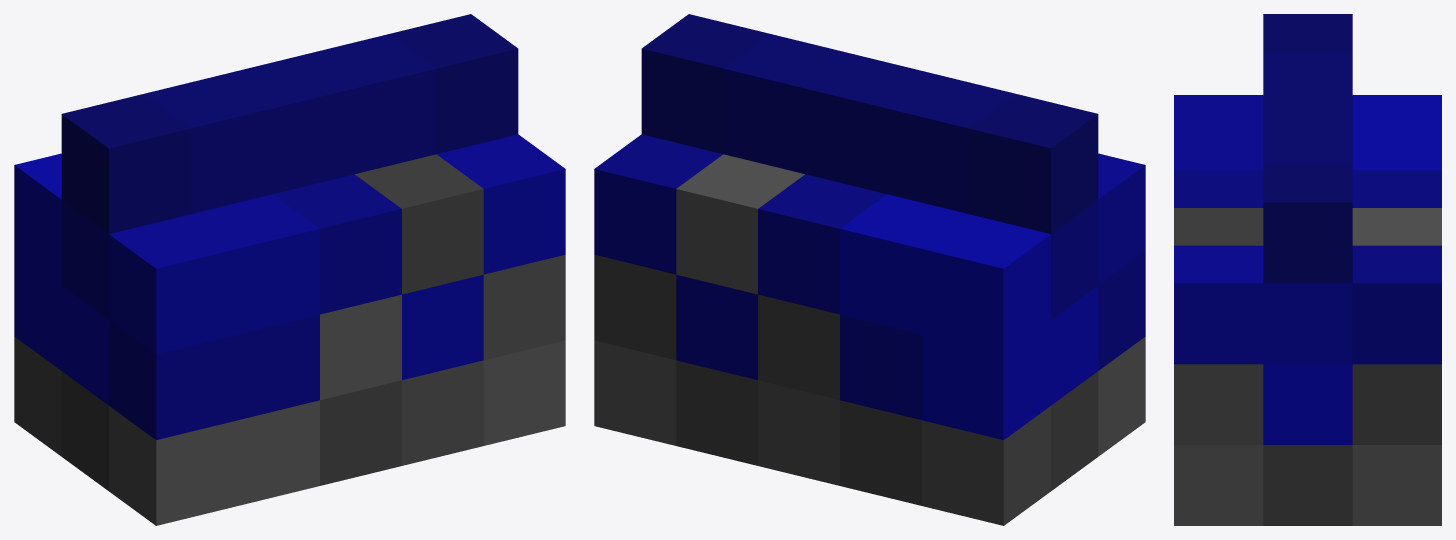
Rendered from Pez Pequeñito-1.obj.
3 views of the same model, side by side, from view 1: azimuth 30°, elevation 25°; view 2: azimuth 150°, elevation 25°; view 3: azimuth 270°, elevation 25° (orthographic). The views are drawn at different scales.
Bounding box in the file's own units: 0.5 × 0.4 × 0.3.
Materials: 1 (1 with a texture image).
